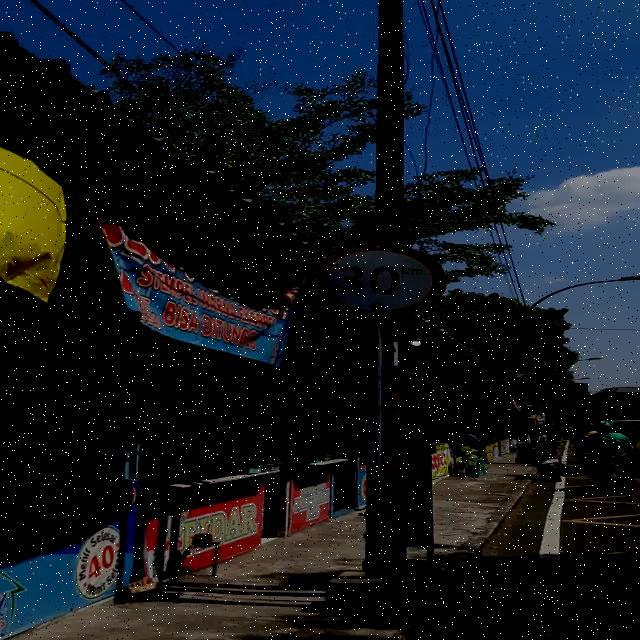Kecepatan Maks. 30 km: (308, 244, 447, 318)
